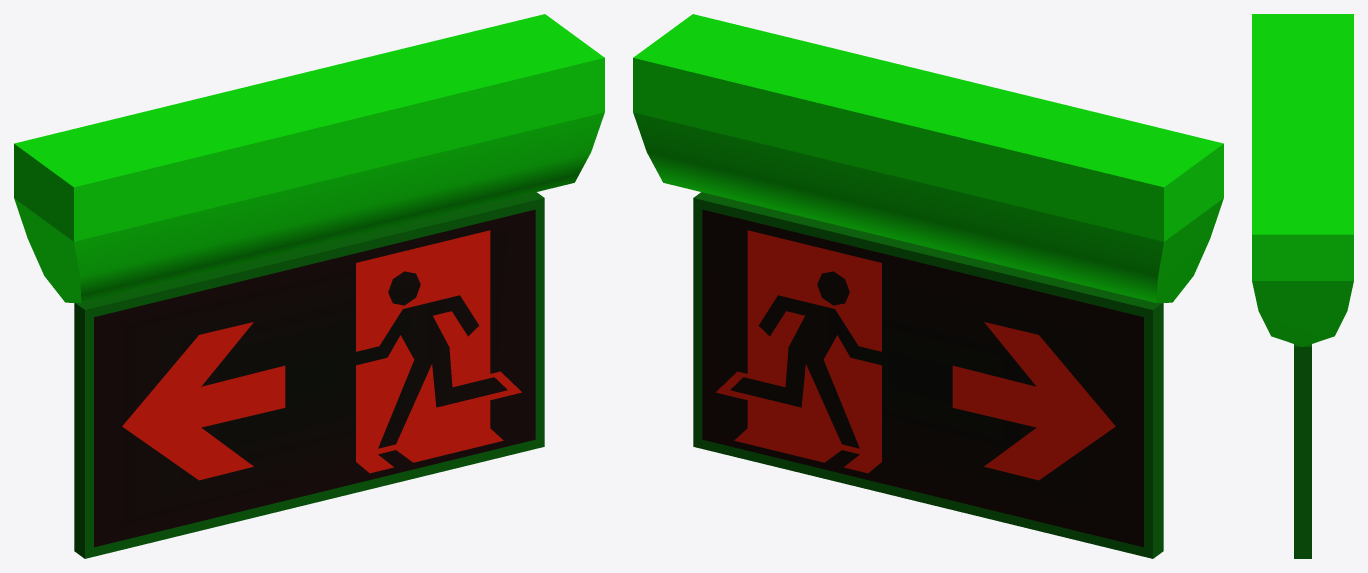
The picture shows the model from 3 angles, left to right: view 1: azimuth 30°, elevation 25°; view 2: azimuth 150°, elevation 25°; view 3: azimuth 270°, elevation 25°; orthographic projection. The views are drawn at different scales.
Parts seen in each view (by area): view 1: Plane.740, Plane.675, Plane.676; view 2: Plane.740, Plane.675, Plane.741; view 3: Plane.675, Plane.740.
Boxes of the visible parts, x1,y1,x2,y2 form: Plane.740: [74, 192, 544, 558]; Plane.675: [14, 14, 604, 302]; Plane.676: [122, 322, 285, 480]; Plane.740: [693, 192, 1163, 558]; Plane.675: [633, 14, 1223, 302]; Plane.741: [952, 322, 1115, 480]; Plane.675: [1252, 14, 1353, 346]; Plane.740: [1294, 344, 1311, 558].
Size of the model in its own units: 0.3523 by 0.2525 by 0.0688.
